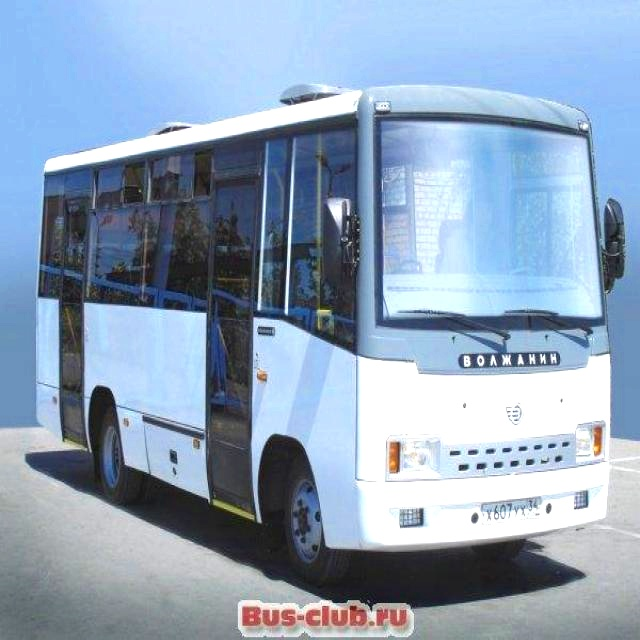bus: (8, 74, 632, 593)
